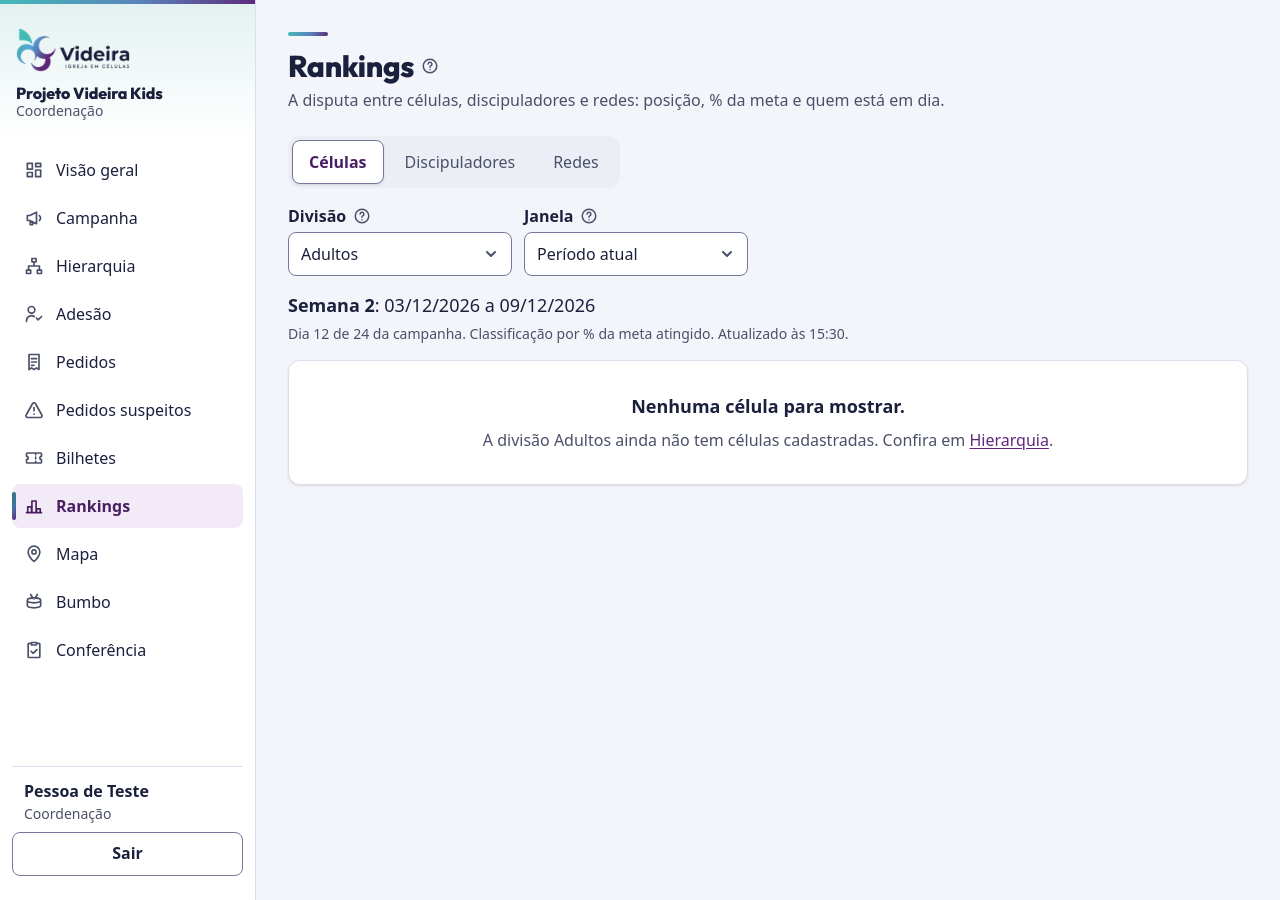
Scenario: CA1: ranking da coordenação (/coordenacao/rankings) › divisão sem itens: estado vazio que leva à Hierarquia (e nada de tabela)
The width and height of the screenshot is (1280, 900).
Expected: the text "Nenhuma célula para mostrar." is shown, top-left (631, 393), bottom-right (905, 420)
Expected: the text "A divisão Adultos ainda não tem células cadastradas." is shown, top-left (483, 429), bottom-right (878, 451)
Click the tab "Discipuladores". click: (460, 162)
box: top-left (388, 140), bottom-right (532, 184)
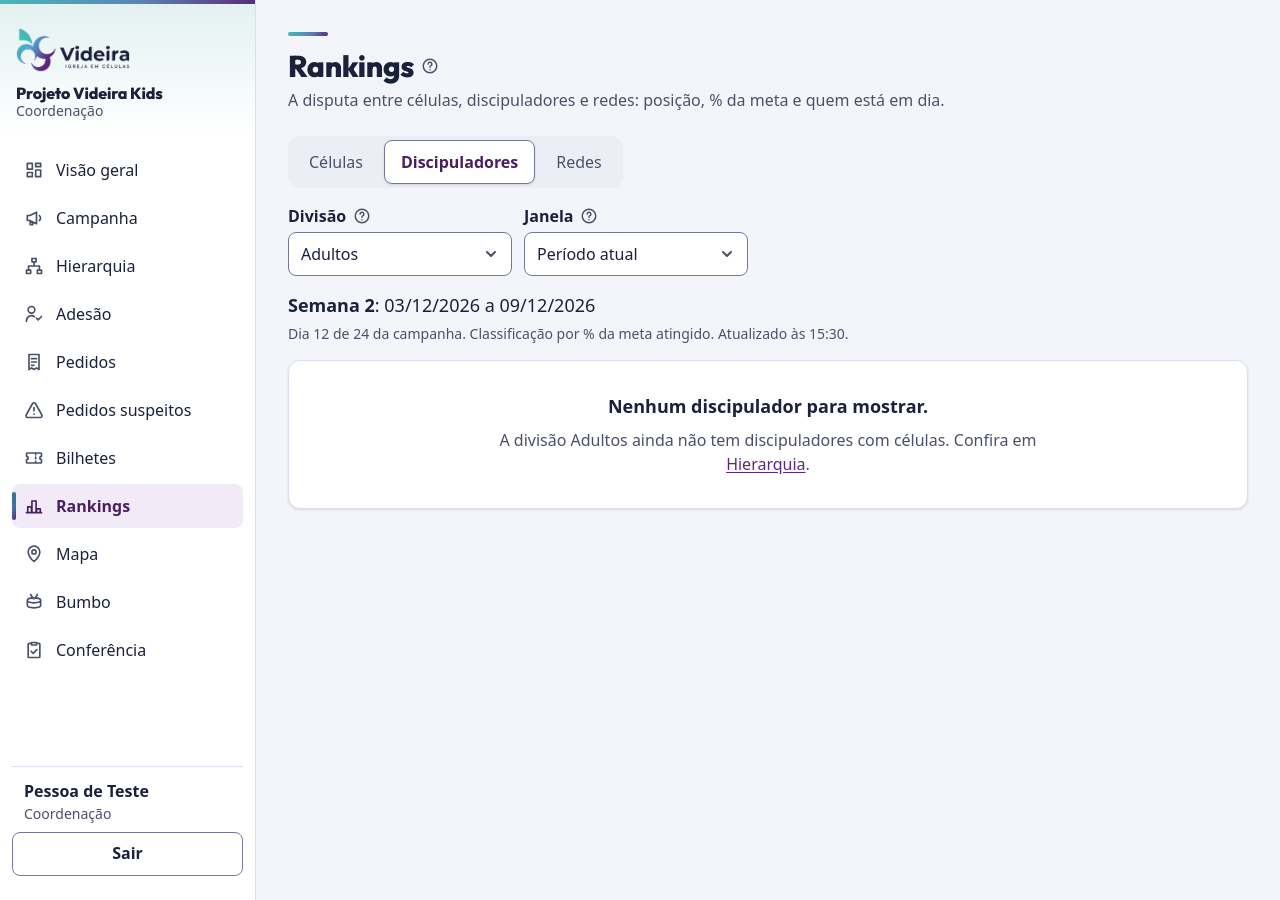
Now the text "Nenhum discipulador para mostrar." is shown, box top-left (608, 393), bottom-right (928, 420)
Now the text "A divisão Adultos ainda não tem discipuladores com células." is shown, box top-left (499, 429), bottom-right (950, 451)
